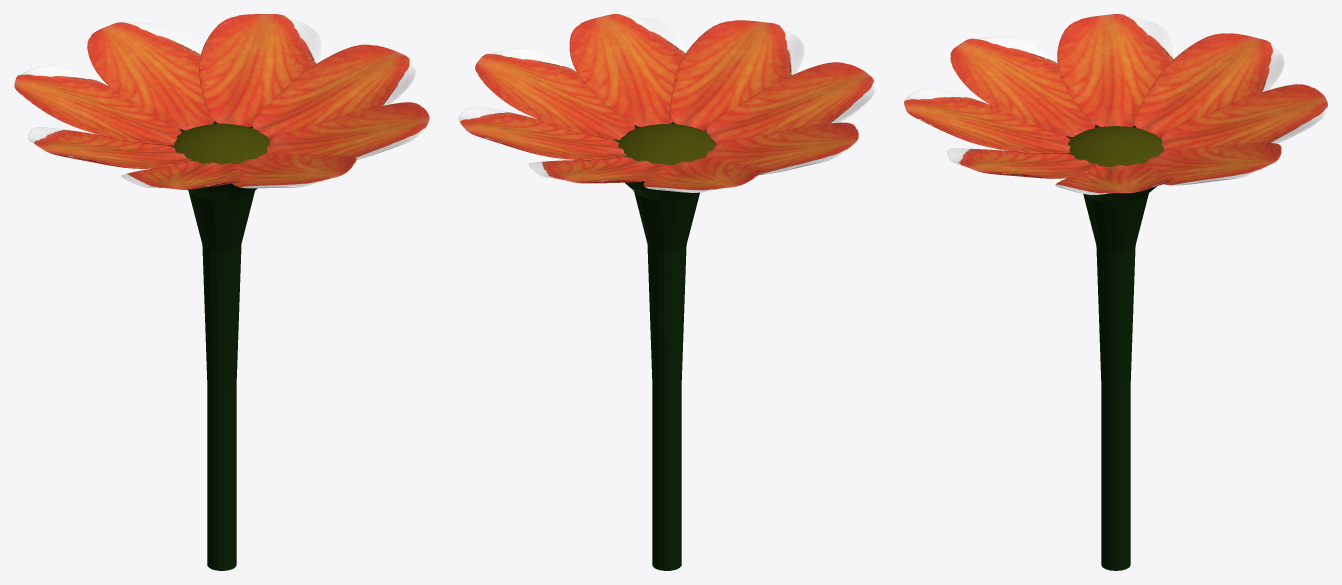
File: flower.obj
3 renders of one model, left to right at view 1: azimuth 30°, elevation 25°; view 2: azimuth 150°, elevation 25°; view 3: azimuth 270°, elevation 25°, orthographic.
Parts seen in each view (by area): view 1: Plane_Plane.001, Cylinder, Sphere; view 2: Plane_Plane.001, Cylinder, Sphere; view 3: Plane_Plane.001, Cylinder, Sphere.
Boxes of the visible parts, left/top/right/bottom form: Plane_Plane.001: left=14, top=14, right=429, bottom=189; Cylinder: left=179, top=121, right=257, bottom=570; Sphere: left=167, top=123, right=270, bottom=186; Plane_Plane.001: left=458, top=14, right=875, bottom=192; Cylinder: left=613, top=121, right=706, bottom=570; Sphere: left=615, top=124, right=715, bottom=165; Plane_Plane.001: left=904, top=14, right=1327, bottom=194; Cylinder: left=1066, top=124, right=1156, bottom=570; Sphere: left=1065, top=126, right=1163, bottom=166.
Size of the model in its own units: 1.02 by 1.22 by 1.02.
Materials: 3 (1 with a texture image).
